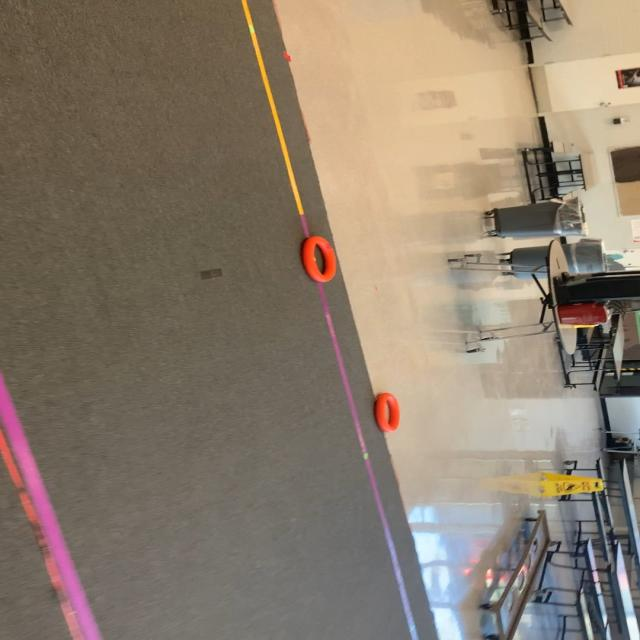notes: (304, 237, 337, 283), (371, 391, 400, 431)
